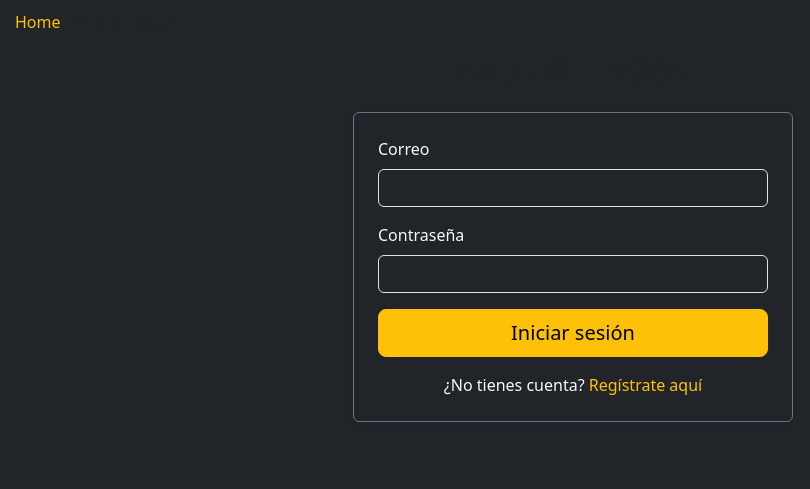
Login - validaciones del formulario › muestra errores de campos obligatorios si se envía vacío
What coordinates should you click on to do the following:
click the button "Iniciar sesión"
I would click on:
 (573, 333)
Its box is 378,309 -> 768,357.
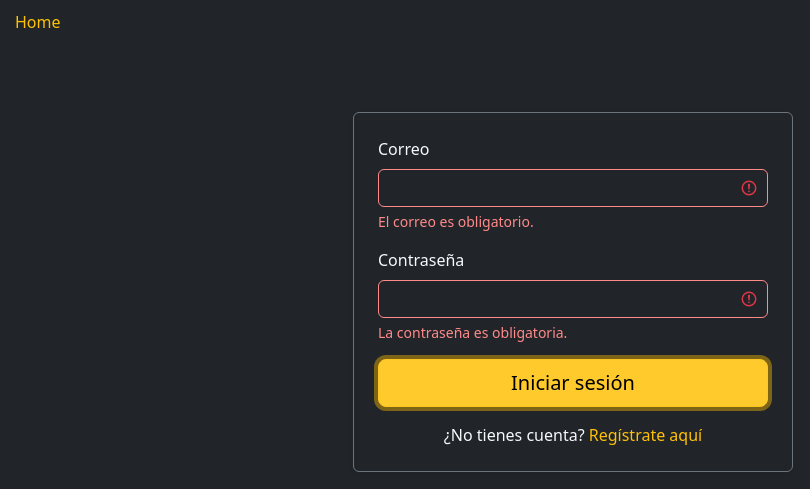
expect the text "El correo es obligatorio." is shown: met, box 378,212 -> 534,231
expect the text "La contraseña es obligatoria." is shown: met, box 378,323 -> 567,342
